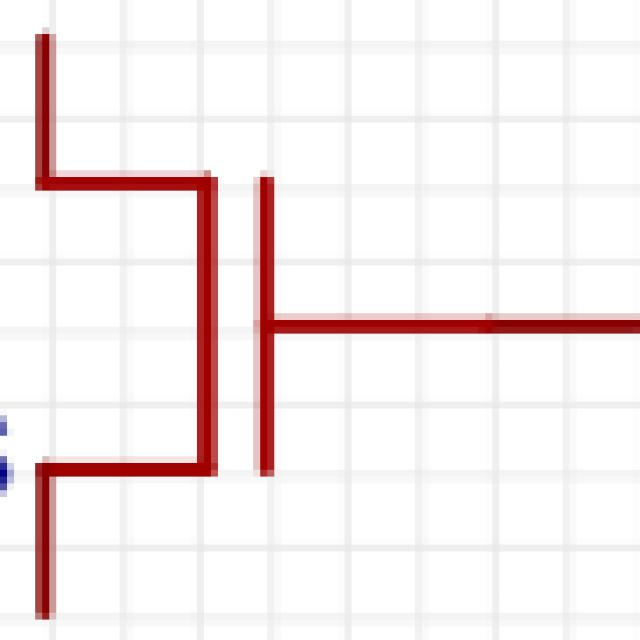nmos: (13, 18, 623, 630)
